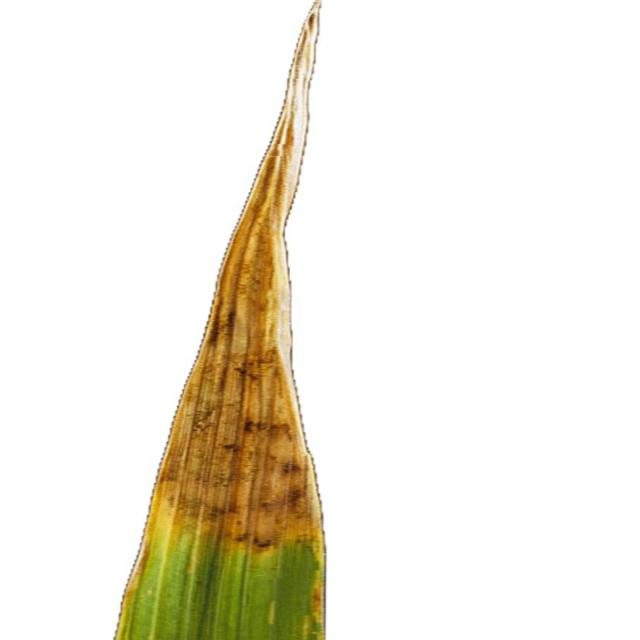Leaf scald: (19, 0, 448, 640)
